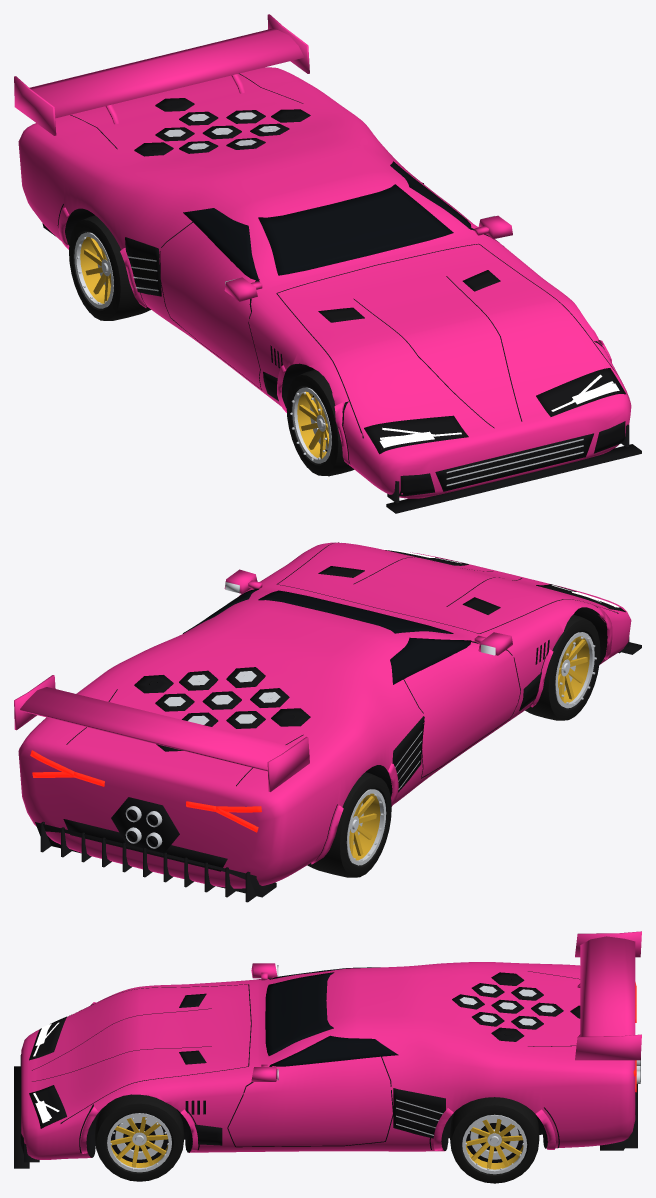
Rendered from lambo.glb.
The picture shows the model from 3 angles, top to bottom: view 1: azimuth 30°, elevation 25°; view 2: azimuth 150°, elevation 25°; view 3: azimuth 270°, elevation 25°; orthographic projection. The views are drawn at different scales.
Visible parts, largest first — view 1: body, trim, glass, spoiler, wheel_rl, wheel_fl, mirrors, lights; view 2: body, trim, spoiler, wheel_rl, wheel_fl, glass, lights, mirrors; view 3: body, trim, spoiler, wheel_rr, glass, wheel_fr, mirrors, lights.
Boxes of the visible parts, x1,y1,x2,y2 form: body: [18, 67, 631, 498]; trim: [42, 73, 641, 513]; glass: [183, 161, 471, 281]; spoiler: [14, 14, 309, 135]; wheel_rl: [69, 215, 150, 320]; wheel_fl: [286, 369, 354, 476]; mirrors: [224, 215, 512, 301]; lights: [379, 374, 619, 447]; body: [18, 542, 631, 888]; trim: [35, 542, 641, 902]; spoiler: [14, 675, 309, 791]; wheel_rl: [307, 772, 391, 877]; wheel_fl: [525, 614, 600, 720]; glass: [183, 588, 471, 684]; lights: [30, 549, 619, 832]; mirrors: [224, 569, 512, 655]; body: [21, 962, 635, 1159]; trim: [14, 965, 640, 1168]; spoiler: [575, 931, 641, 1060]; wheel_rr: [450, 1097, 539, 1183]; glass: [265, 967, 398, 1066]; wheel_fr: [95, 1094, 184, 1181]; mirrors: [251, 963, 277, 1081]; lights: [33, 982, 636, 1123].
Bounding box in the file's own units: 2.02 × 1.23 × 4.77.
